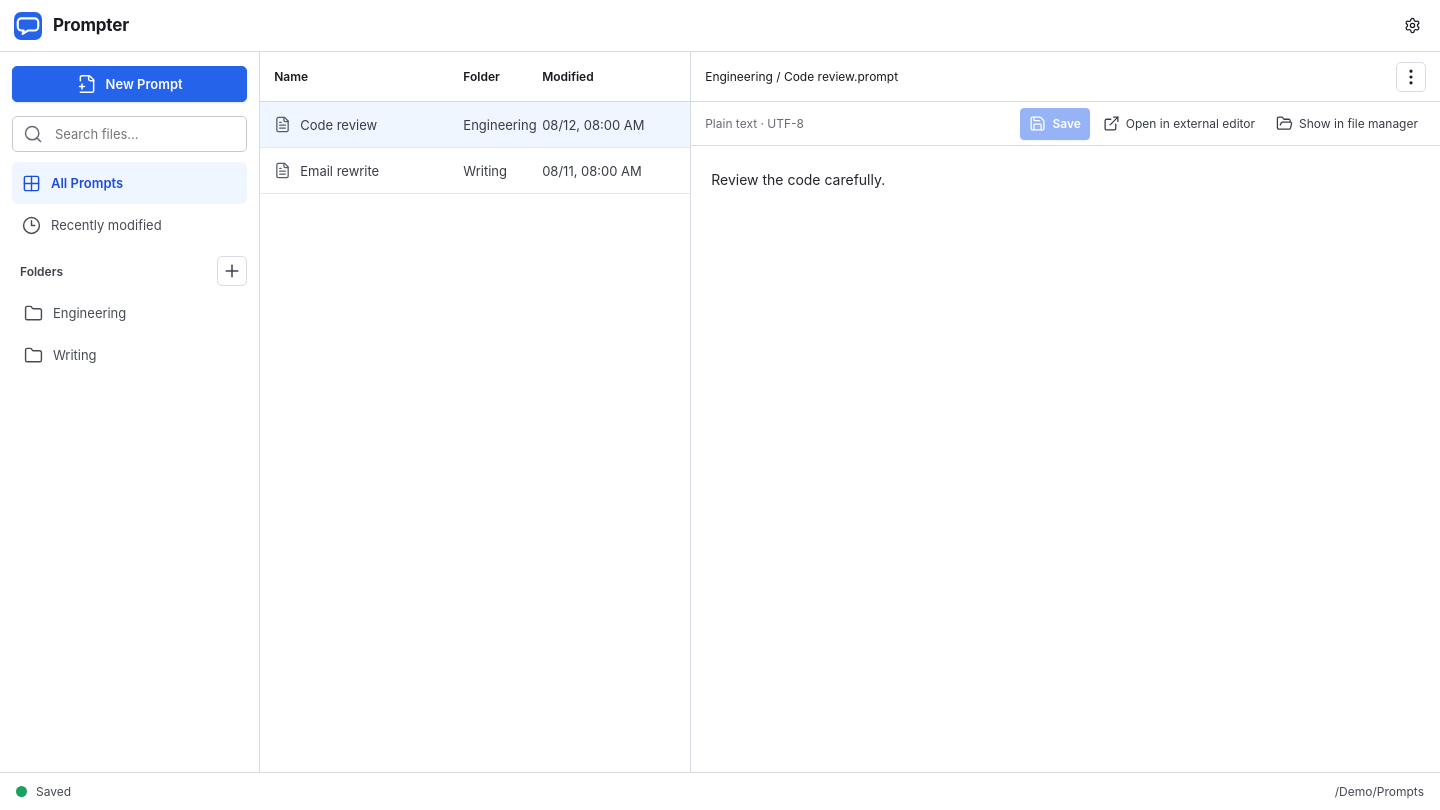
Test: Manager › uses a Rename action and treats an unchanged name as a no-op
Check: the text box showing "Review the code carefully." is shown, box [691, 146, 1439, 772]
Click the button named "Actions" at (1411, 76), box [1396, 62, 1426, 92]
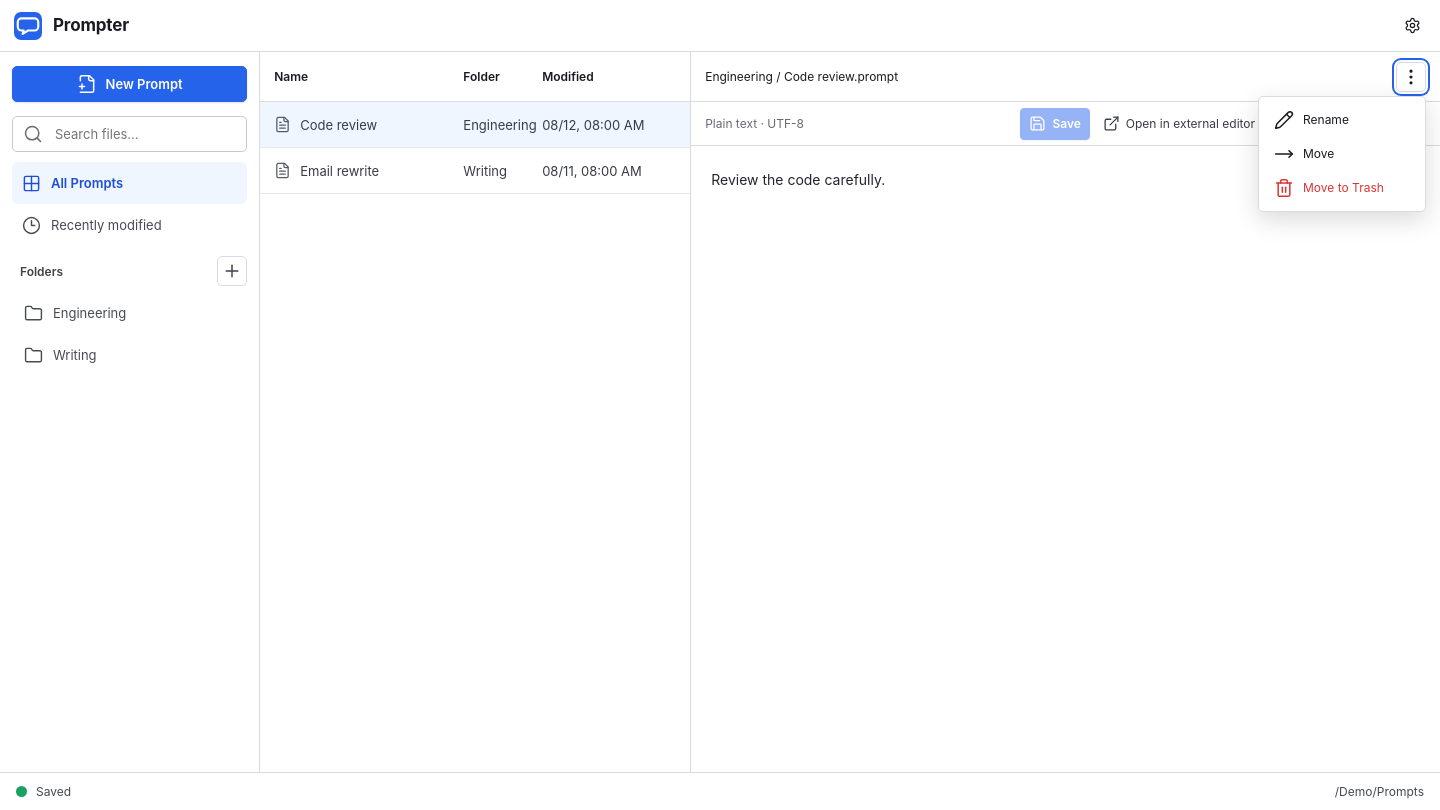
Click the button "Rename" at (1342, 120), box [1265, 102, 1419, 136]
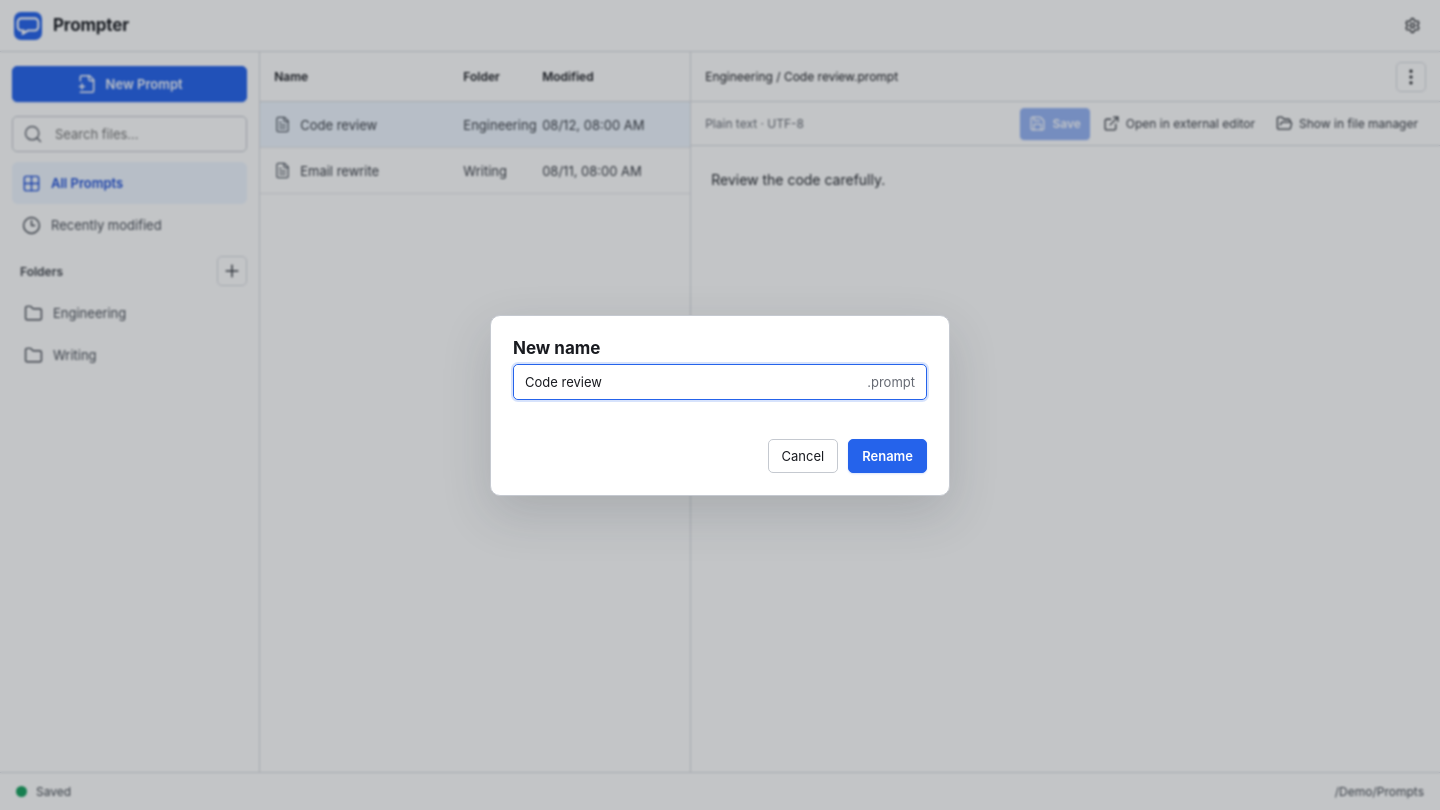
Click the button "Rename" at (888, 456), box [848, 438, 927, 472]
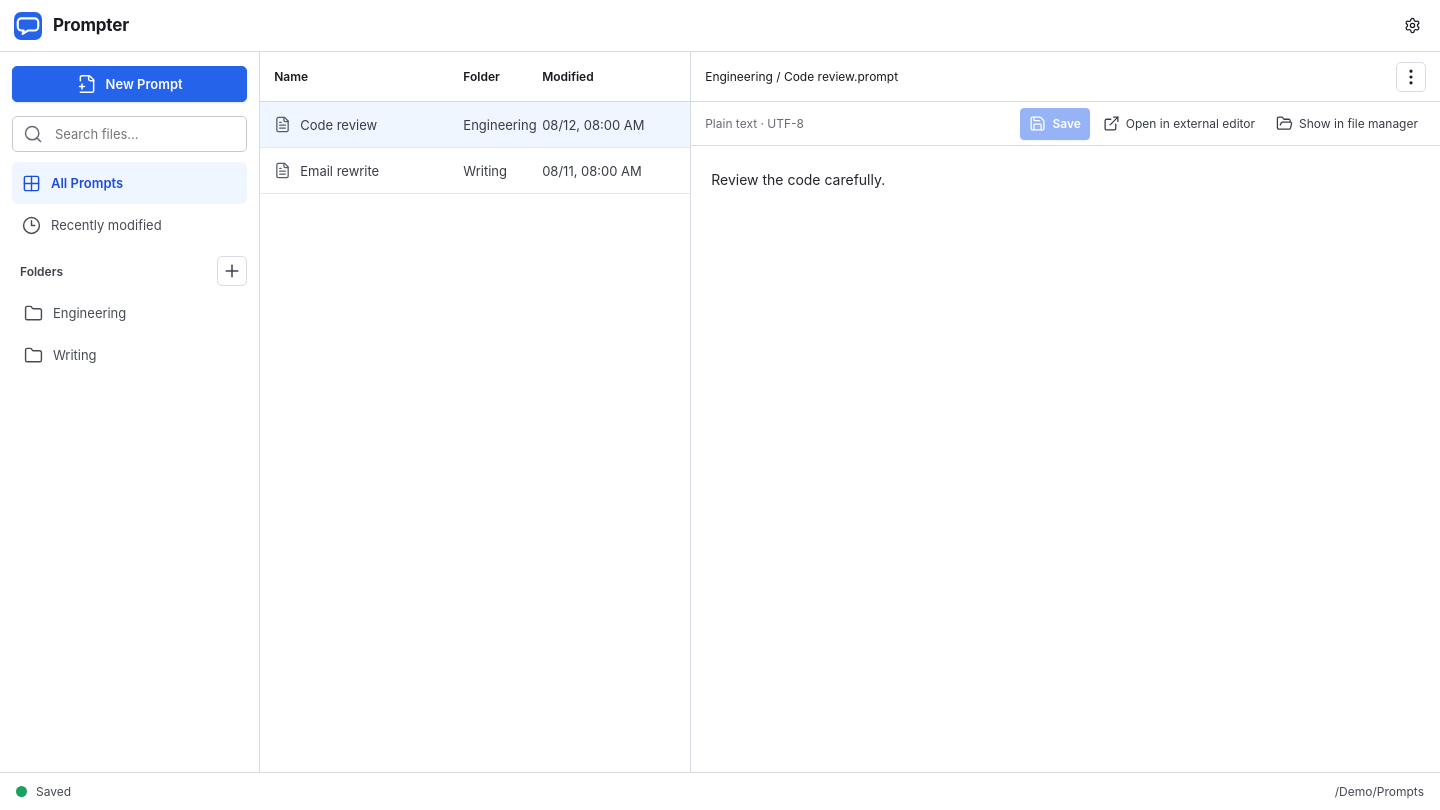
Check: the heading "New name" is gone
